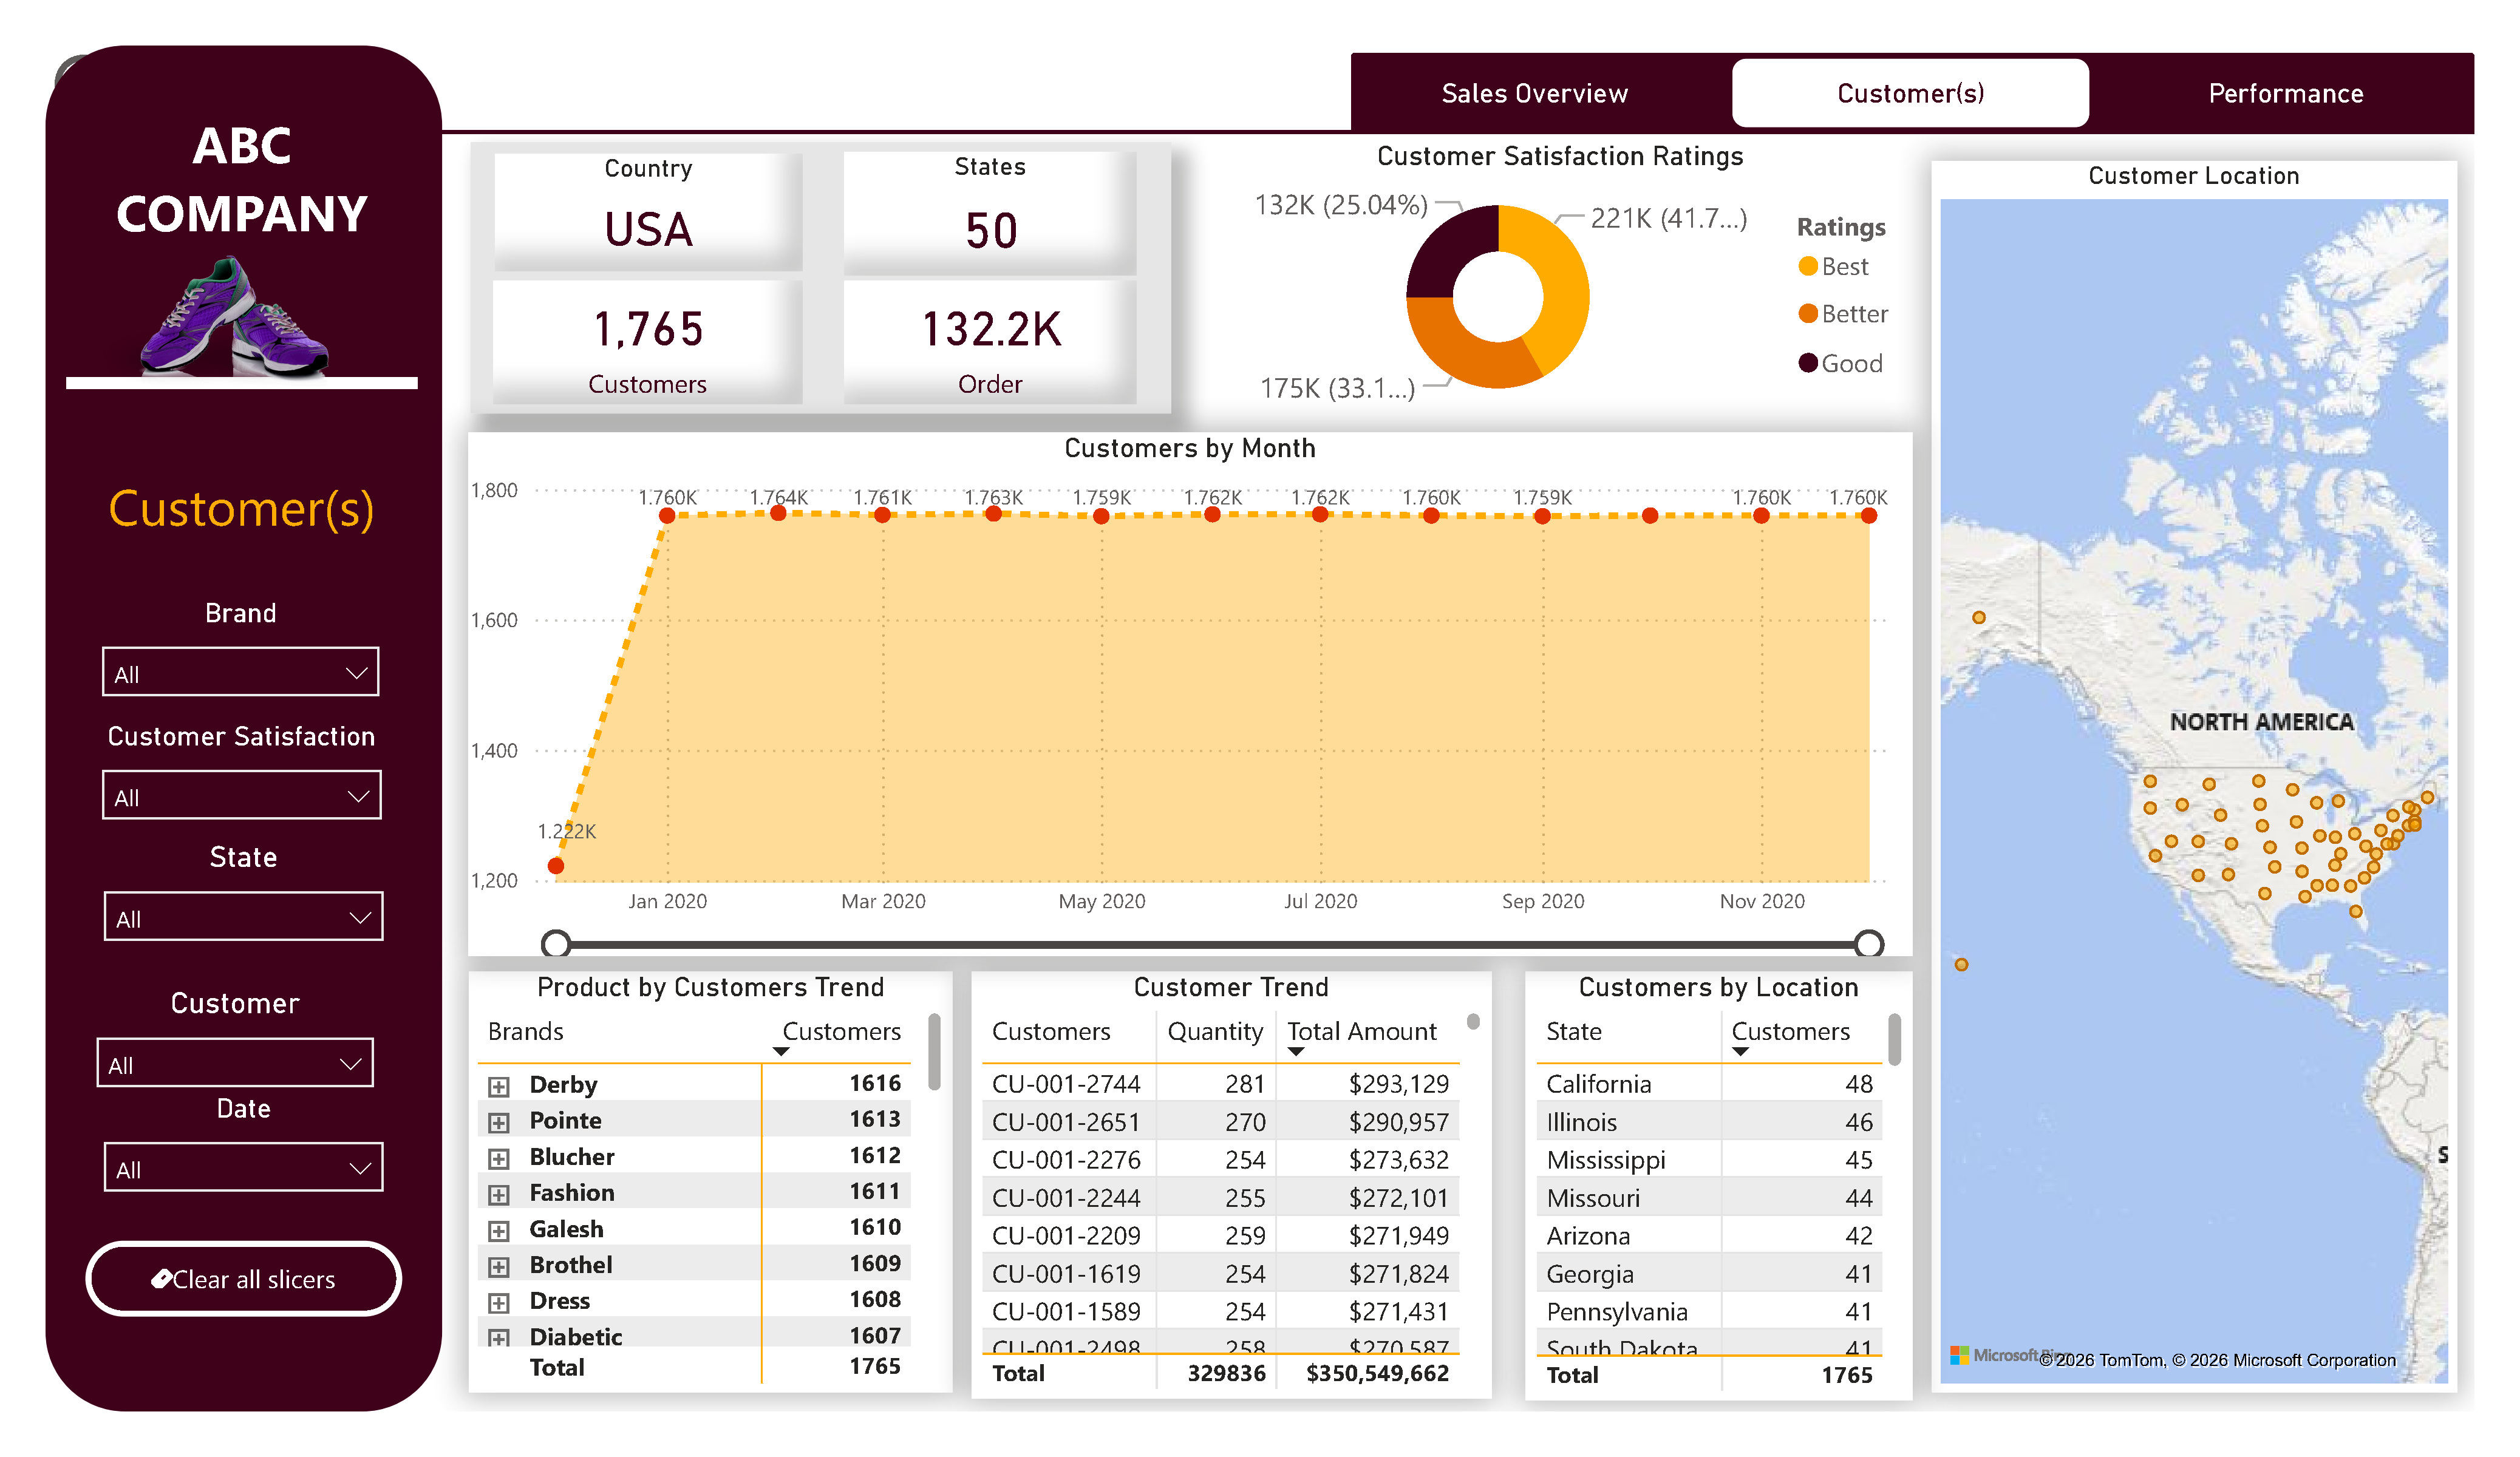

Layout of this report page (visuals, bound fields, positions):
{"tool":"powerbi","page":{"name":"Customer(s)","canvas":[1280,720],"ordinal":1},"visuals":[{"type":"actionButton","box":[0,0,100,40],"z":0},{"type":"shape","box":[0,0,208.9,720],"z":1000},{"type":"slicer","title":"Customer Satisfaction","fields":{"Values":["tblWarehouse.Warehouse Code"]},"box":[20.4,355.7,166.6,64.9],"z":2000},{"type":"donutChart","title":"Customer Satisfaction Ratings","fields":{"Category":["tblTransaction.Customer Satisfaction Rate"],"Y":["Sum(tblTransaction.Customer Satisfaction)"]},"box":[602.5,50,391.2,148.8],"z":3000,"group":"g1"},{"type":"slicer","title":"State","fields":{"Values":["tblLogistics.3PL Name"]},"box":[20.8,418.4,166.8,79.2],"z":3000},{"type":"slicer","title":"Date","fields":{"Values":["tblTransaction.Order Date.Variation.Date Hierarchy.Year"]},"box":[20.8,551.8,166.8,65.3],"z":4000},{"type":"group","id":"g1","title":"Group 1","box":[602.5,50,391.2,148.8],"z":5000},{"type":"shape","box":[201.4,36.7,1078.6,16.9],"z":6000},{"type":"shape","box":[223.6,50.9,369.1,142.7],"z":7000},{"type":"card","fields":{"Values":["Count(tblTransaction.Customer No.)"]},"box":[236.4,123.6,162.7,65.5],"z":8000},{"type":"card","title":"States","fields":{"Values":["Count(tblCustomers.State2)"]},"box":[420.9,56.4,154.5,64.5],"z":9000},{"type":"card","title":"Country","fields":{"Values":["Min(tblRegion.Country)"]},"box":[237.3,57.3,161.8,61.8],"z":10000},{"type":"map","fields":{"Category":["tblCustomers.State2"]},"box":[994.3,61.4,277.1,648.6],"z":11000},{"type":"group","id":"g2","title":"Group 1","box":[10.6,28.5,185.4,182.8],"z":12000},{"type":"shape","box":[10.6,163.6,185.4,29.8],"z":13000,"group":"g2"},{"type":"slicer","title":"Customer","fields":{"Values":["tblCustomers.Customer No"]},"box":[16.7,494.8,166.8,79.2],"z":13000},{"type":"textbox","box":[20.5,28.5,165.6,90.1],"z":14000,"group":"g2"},{"type":"pivotTable","title":"Product by Customers Trend","fields":{"Rows":["tblProducts.Brand Name","tblProducts.Product Name"],"Values":["Count(tblTransaction.Customer No.)"]},"box":[223.3,487.8,254.4,222.2],"z":14000},{"type":"pageNavigator","box":[688.3,4.3,591.5,41.5],"z":15000},{"type":"image","box":[20.5,86.1,133.1,125.2],"z":15000,"group":"g2"},{"type":"tableEx","title":"Customer Trend","fields":{"Values":["tblCustomers.Customer No","Sum(tblTransaction.Quantity)","Sum(tblTransaction.Total Amount)"]},"box":[487.8,487.8,274.4,225.6],"z":16000},{"type":"card","fields":{"Values":["Count(tblTransaction.Order No)"]},"box":[420.9,123.6,154.5,65.5],"z":17000},{"type":"textbox","box":[13.9,201.9,179.3,98.8],"z":18000},{"type":"actionButton","box":[20.8,630,167.1,40],"z":19000},{"type":"tableEx","title":"Customers by Location","fields":{"Values":["tblCustomers.State2","tblCustomers.Customer No"]},"box":[780,487.8,204.4,226.7],"z":20000},{"type":"areaChart","title":"Customers by Month","fields":{"Category":["tblTransaction.Order Date.Variation.Date Hierarchy.Year","tblTransaction.Order Date.Variation.Date Hierarchy.Month"],"Y":["Count(tblTransaction.Customer No.)"]},"box":[223.3,204.4,761.1,275.6],"z":21000},{"type":"slicer","title":"Brand","fields":{"Values":["tblProducts.Brand Name"]},"box":[20.2,291.5,166,64.9],"z":22000}]}

Visuals, with their boxes on the page's 1280x720 design canvas (x1, y1, x2, y2). These are canvas units, not pixel positions in the 2520x1457 screenshot, which may show the page scaled, cropped or inside an application window:
actionButton: {"left": 0, "top": 0, "right": 100, "bottom": 40}
shape: {"left": 0, "top": 0, "right": 209, "bottom": 720}
"Customer Satisfaction" slicer: {"left": 20, "top": 356, "right": 187, "bottom": 421}
"Customer Satisfaction Ratings" donutChart: {"left": 602, "top": 50, "right": 994, "bottom": 199}
"State" slicer: {"left": 21, "top": 418, "right": 188, "bottom": 498}
"Date" slicer: {"left": 21, "top": 552, "right": 188, "bottom": 617}
"Group 1" group: {"left": 602, "top": 50, "right": 994, "bottom": 199}
shape: {"left": 201, "top": 37, "right": 1280, "bottom": 54}
shape: {"left": 224, "top": 51, "right": 593, "bottom": 194}
card - Count(tblTransaction.Customer No.): {"left": 236, "top": 124, "right": 399, "bottom": 189}
"States" card: {"left": 421, "top": 56, "right": 575, "bottom": 121}
"Country" card: {"left": 237, "top": 57, "right": 399, "bottom": 119}
map - tblCustomers.State2: {"left": 994, "top": 61, "right": 1271, "bottom": 710}
"Group 1" group: {"left": 11, "top": 28, "right": 196, "bottom": 211}
shape: {"left": 11, "top": 164, "right": 196, "bottom": 193}
"Customer" slicer: {"left": 17, "top": 495, "right": 184, "bottom": 574}
textbox: {"left": 20, "top": 28, "right": 186, "bottom": 119}
"Product by Customers Trend" pivotTable: {"left": 223, "top": 488, "right": 478, "bottom": 710}
pageNavigator: {"left": 688, "top": 4, "right": 1280, "bottom": 46}
image: {"left": 20, "top": 86, "right": 154, "bottom": 211}
"Customer Trend" tableEx: {"left": 488, "top": 488, "right": 762, "bottom": 713}
card - Count(tblTransaction.Order No): {"left": 421, "top": 124, "right": 575, "bottom": 189}
textbox: {"left": 14, "top": 202, "right": 193, "bottom": 301}
actionButton: {"left": 21, "top": 630, "right": 188, "bottom": 670}
"Customers by Location" tableEx: {"left": 780, "top": 488, "right": 984, "bottom": 714}
"Customers by Month" areaChart: {"left": 223, "top": 204, "right": 984, "bottom": 480}
"Brand" slicer: {"left": 20, "top": 292, "right": 186, "bottom": 356}
